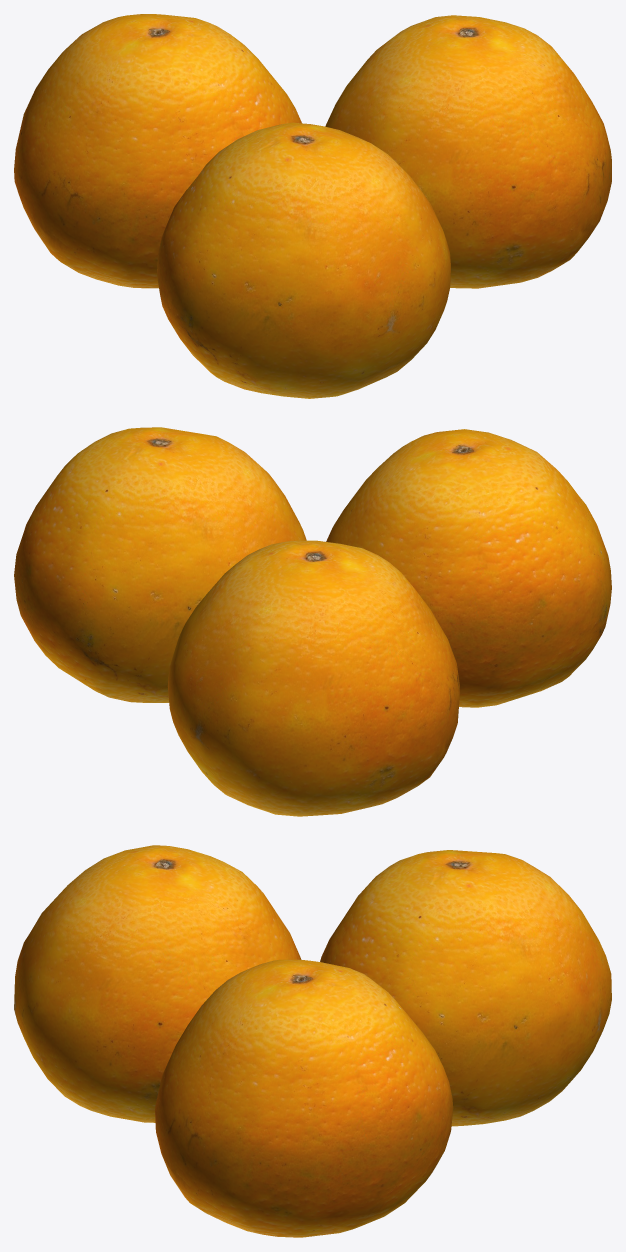
File: ORANGE.glb
3 renders of one model, top to bottom at view 1: azimuth 30°, elevation 25°; view 2: azimuth 150°, elevation 25°; view 3: azimuth 270°, elevation 25°, orthographic.
Visible parts, largest first — view 1: 20_orange_20_orange_0, 20_orange_20_orange_0.001, 20_orange_20_orange_0.002; view 2: 20_orange_20_orange_0.002, 20_orange_20_orange_0.001, 20_orange_20_orange_0; view 3: 20_orange_20_orange_0.001, 20_orange_20_orange_0.002, 20_orange_20_orange_0.
Part boxes in pixels (<box>): 20_orange_20_orange_0: <box>157,122,450,398</box>; 20_orange_20_orange_0.001: <box>325,15,611,288</box>; 20_orange_20_orange_0.002: <box>14,14,301,288</box>; 20_orange_20_orange_0.002: <box>167,540,459,816</box>; 20_orange_20_orange_0.001: <box>14,427,306,702</box>; 20_orange_20_orange_0: <box>326,429,611,707</box>; 20_orange_20_orange_0.001: <box>155,959,453,1237</box>; 20_orange_20_orange_0.002: <box>320,850,611,1126</box>; 20_orange_20_orange_0: <box>14,845,301,1122</box>.
Bounding box in the file's own units: 0.1506 × 0.0699 × 0.1584.
Materials: 1 (1 with a texture image).
